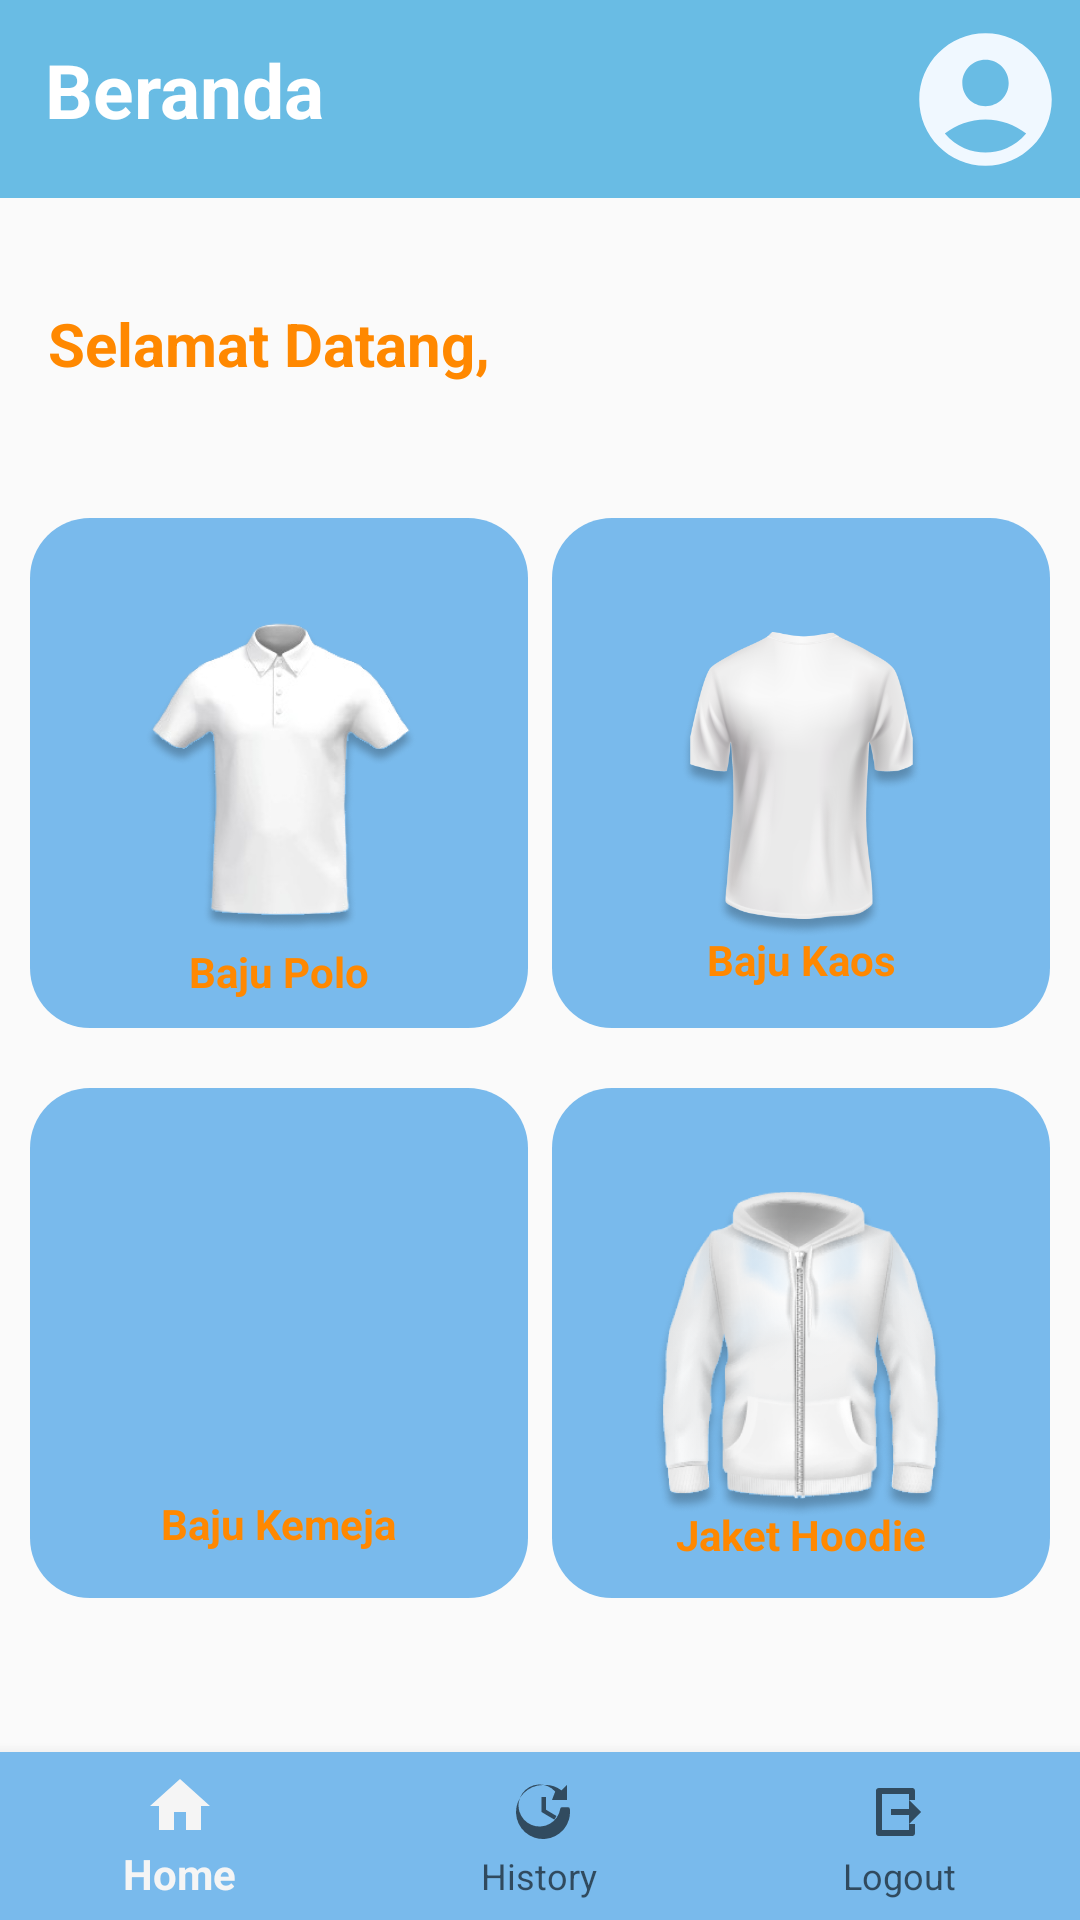

Point at icon controls on the screen. Image size 1080 x 1920, points as point (x, y).
account circle: point (985, 99)
